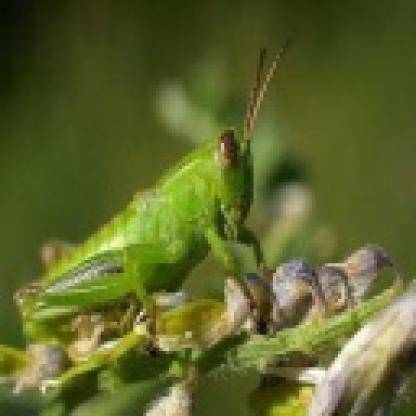grasshopper: (6, 41, 284, 348)
